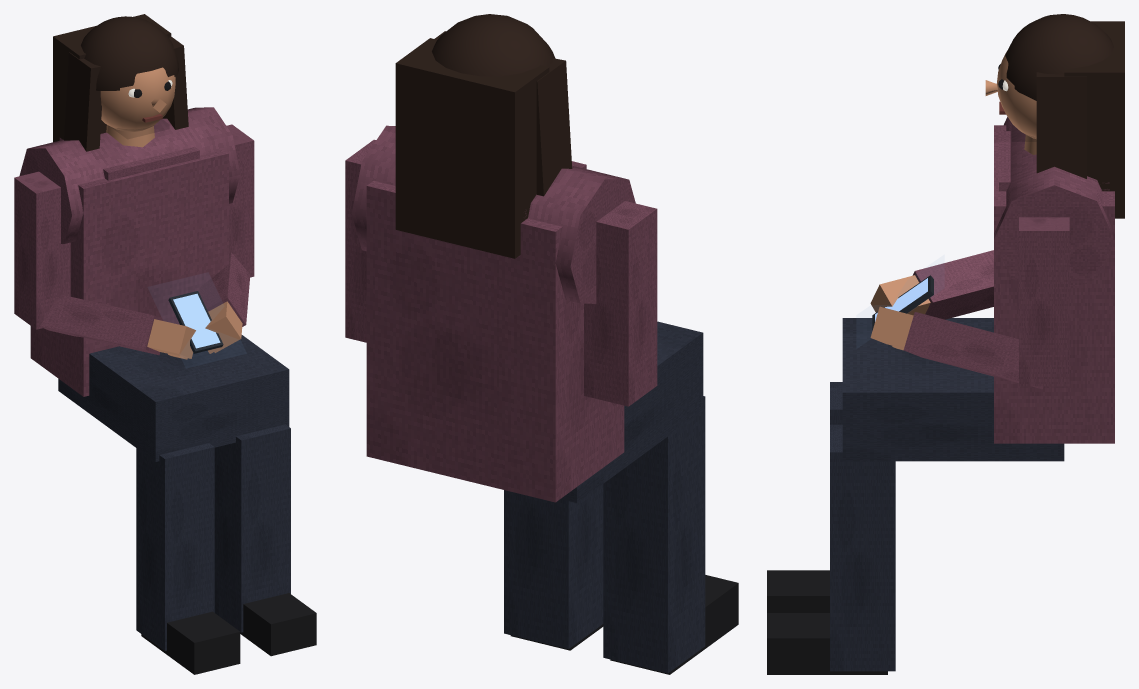
Rendered from npc_mom.glb.
3 renders of one model, left to right at view 1: azimuth 30°, elevation 25°; view 2: azimuth 150°, elevation 25°; view 3: azimuth 270°, elevation 25°, orthographic. The views are drawn at different scales.
Visible parts, largest first — view 1: character_parent_01_Mom_root_Buffer_01, character_parent_01_Mom_root_Buffer_02, Head, character_parent_01_Mom_root_Buffer_03, character_parent_01_Mom_root_Buffer_04, Phone; view 2: character_parent_01_Mom_root_Buffer_01, character_parent_01_Mom_root_Buffer_02, Head, character_parent_01_Mom_root_Buffer_03; view 3: character_parent_01_Mom_root_Buffer_01, character_parent_01_Mom_root_Buffer_02, Head, character_parent_01_Mom_root_Buffer_03, character_parent_01_Mom_root_Buffer_04, Phone.
Part boxes in pixels (left/top/right/bottom): character_parent_01_Mom_root_Buffer_01: left=14, top=107, right=254, bottom=396; character_parent_01_Mom_root_Buffer_02: left=58, top=335, right=290, bottom=650; Head: left=53, top=14, right=188, bottom=151; character_parent_01_Mom_root_Buffer_03: left=141, top=593, right=316, bottom=674; character_parent_01_Mom_root_Buffer_04: left=106, top=125, right=242, bottom=359; Phone: left=168, top=290, right=223, bottom=353; character_parent_01_Mom_root_Buffer_01: left=345, top=125, right=657, bottom=502; character_parent_01_Mom_root_Buffer_02: left=504, top=321, right=705, bottom=673; Head: left=395, top=14, right=572, bottom=258; character_parent_01_Mom_root_Buffer_03: left=510, top=575, right=738, bottom=674; character_parent_01_Mom_root_Buffer_01: left=903, top=117, right=1114, bottom=443; character_parent_01_Mom_root_Buffer_02: left=830, top=318, right=1064, bottom=671; Head: left=985, top=14, right=1124, bottom=218; character_parent_01_Mom_root_Buffer_03: left=767, top=570, right=887, bottom=674; character_parent_01_Mom_root_Buffer_04: left=870, top=135, right=1036, bottom=350; Phone: left=872, top=275, right=933, bottom=330.
Size of the model in its own units: 0.57 by 1.36 by 0.71.
12 materials, 2 textured.
